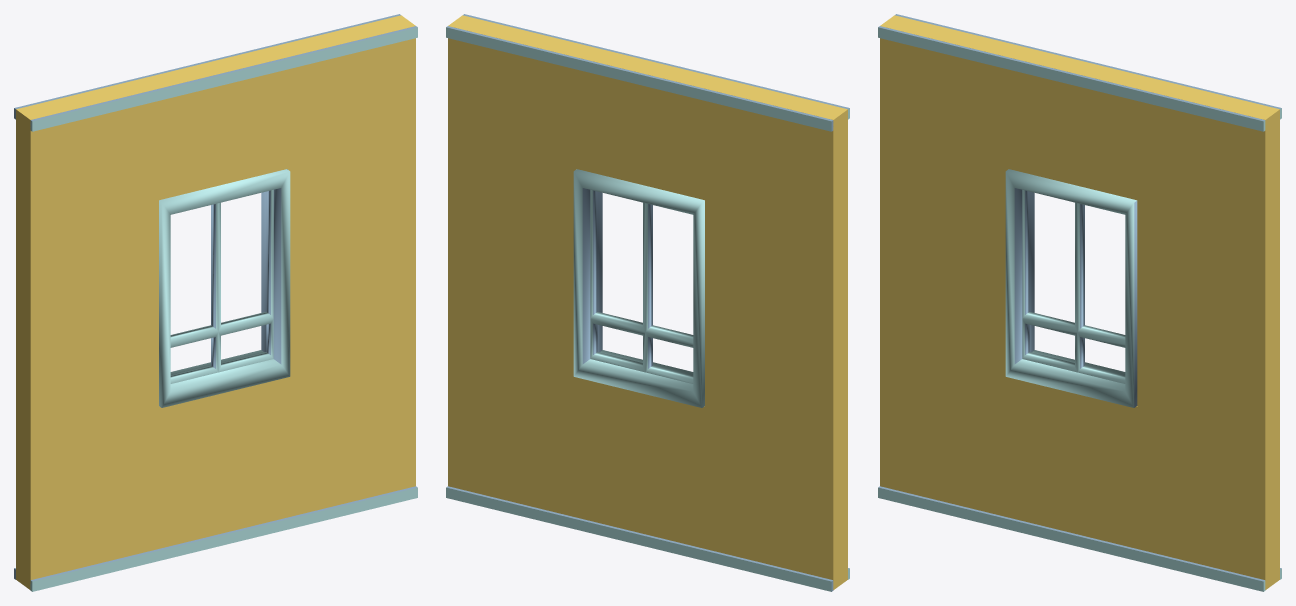
Rendered from Wall Small Window.fbx.
The picture shows the model from 3 angles, left to right: view 1: azimuth 30°, elevation 25°; view 2: azimuth 150°, elevation 25°; view 3: azimuth 330°, elevation 25°; orthographic projection.
Parts seen in each view (by area): view 1: Wall Small Window; view 2: Wall Small Window; view 3: Wall Small Window.
Boxes of the visible parts, box(x1,y1,x2,y2) form: Wall Small Window: box(14, 14, 417, 591); Wall Small Window: box(446, 14, 849, 591); Wall Small Window: box(878, 14, 1281, 591).
Bounding box in the file's own units: 600 × 700 × 54.
